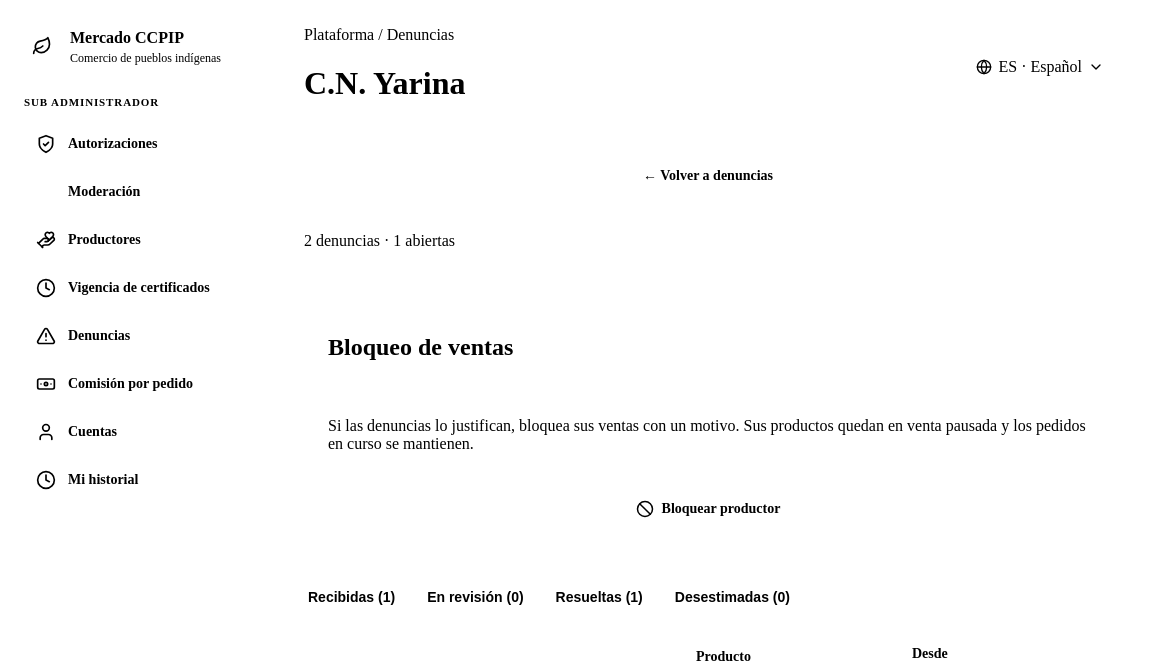
Test: Detalle de una denuncia (CCPIP-432) › muestra a quién se denunció, quién denunció, la fecha y el motivo
This screenshot has width=1152, height=670.
What coordinates should you click on to do the following:
click the tab "Resueltas (1)"
I would click on:
 (599, 598)
Its box is [552, 577, 647, 620].
(page scrolled)
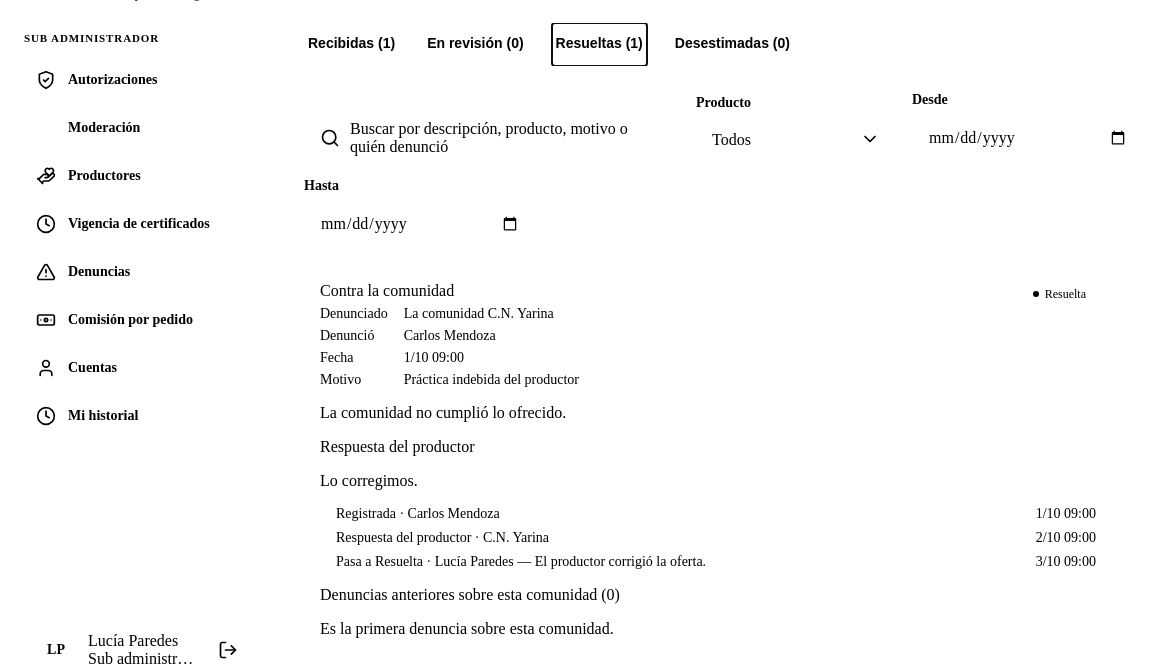
Expected: the text "Es la primera denuncia sobre esta comunidad." is shown, [320, 620, 614, 637]
